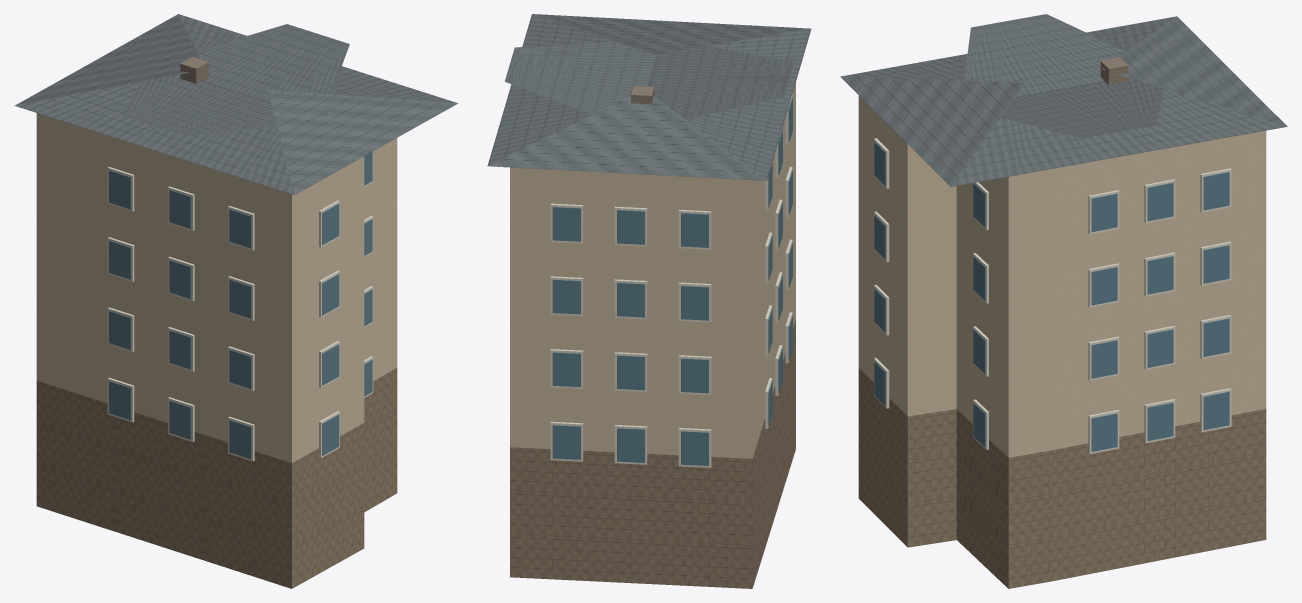
The model's file is core_0088.gltf.
The picture shows the model from 3 angles, left to right: view 1: azimuth 30°, elevation 25°; view 2: azimuth 150°, elevation 25°; view 3: azimuth 270°, elevation 25°; orthographic projection. The views are drawn at different scales.
Parts seen in each view (by area): view 1: core_0088; view 2: core_0088; view 3: core_0088.
Boxes of the visible parts, x1,y1,x2,y2 form: core_0088: [14, 14, 457, 588]; core_0088: [487, 14, 811, 588]; core_0088: [840, 14, 1287, 588].
Size of the model in its own units: 14.25 by 17.45 by 15.78.
6 materials, 6 textured.
